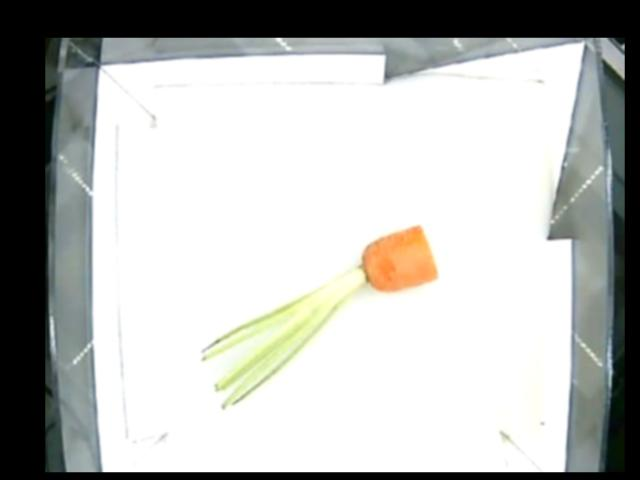Carrot: (315, 225, 436, 318)
